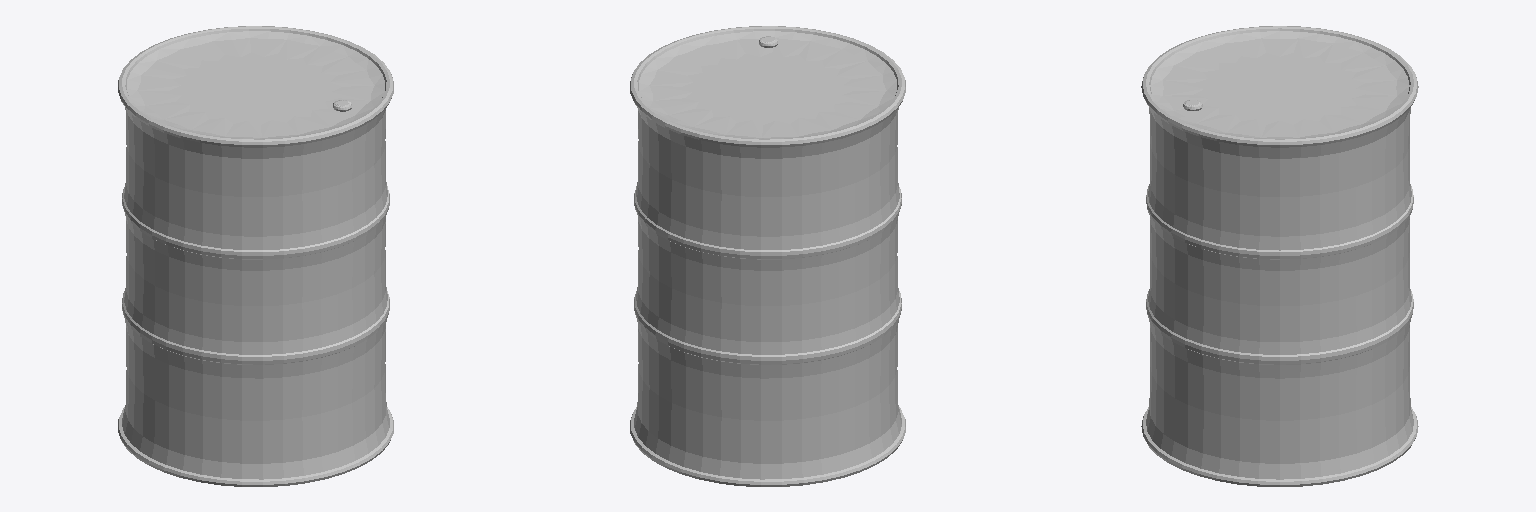
The model's file is CK_Can.obj.
3 renders of one model, left to right at view 1: azimuth 30°, elevation 25°; view 2: azimuth 150°, elevation 25°; view 3: azimuth 270°, elevation 25°, orthographic.
Parts seen in each view (by area): view 1: Can; view 2: Can; view 3: Can.
Boxes of the visible parts, x1=… form: Can: x1=118, y1=26, x2=393, y2=486; Can: x1=630, y1=26, x2=905, y2=486; Can: x1=1141, y1=26, x2=1418, y2=486.
Size of the model in its own units: 5.37 by 7.45 by 5.37.